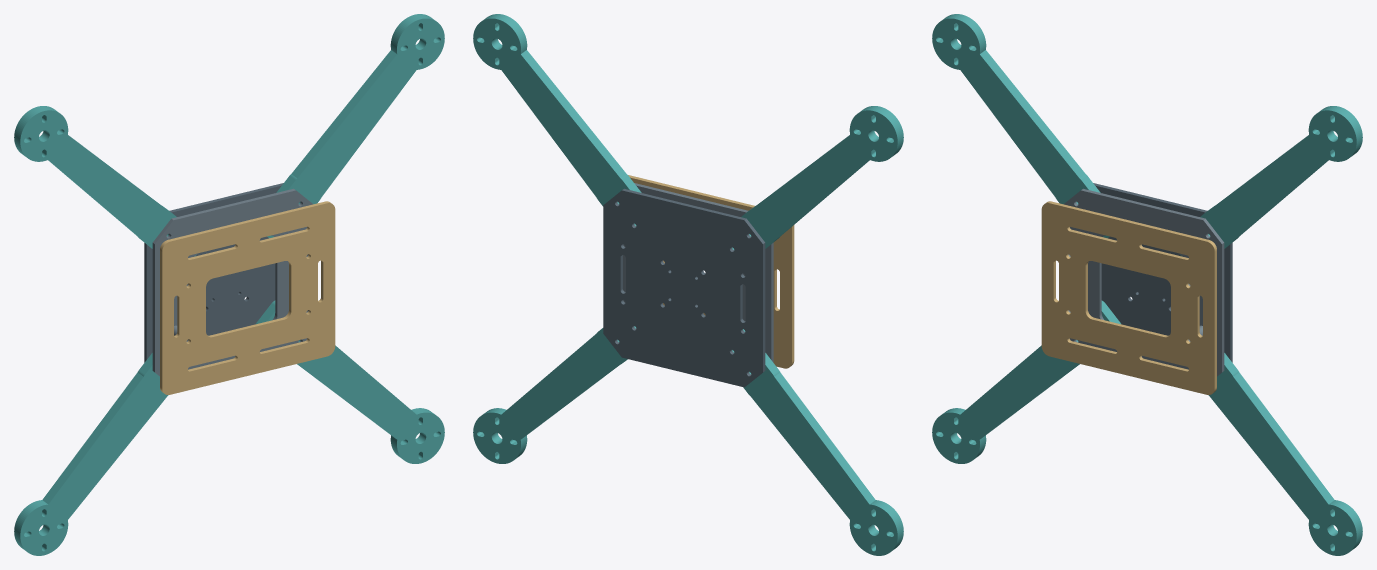
The model's file is assembly_preview.glb.
The picture shows the model from 3 angles, left to right: view 1: azimuth 30°, elevation 25°; view 2: azimuth 150°, elevation 25°; view 3: azimuth 330°, elevation 25°; orthographic projection.
Parts seen in each view (by area): view 1: 10_Electronics tray, 1_Arm 45, 3_Arm 225, 2_Arm 135, 4_Arm 315, 0_Bottom plate, 5_Top clamp; view 2: 0_Bottom plate, 3_Arm 225, 1_Arm 45, 2_Arm 135, 4_Arm 315, 10_Electronics tray, 5_Top clamp; view 3: 10_Electronics tray, 2_Arm 135, 4_Arm 315, 1_Arm 45, 3_Arm 225, 0_Bottom plate, 5_Top clamp.
Part boxes in pixels (x1,y1,x2,y2): 10_Electronics tray: (160,201,335,394); 1_Arm 45: (267,14,444,238); 3_Arm 225: (14,353,168,555); 2_Arm 135: (14,106,196,256); 4_Arm 315: (256,300,444,463); 0_Bottom plate: (144,183,283,362); 5_Top clamp: (152,188,312,376); 0_Bottom plate: (603,188,765,387); 3_Arm 225: (732,329,903,555); 1_Arm 45: (473,14,641,225); 2_Arm 135: (732,106,903,249); 4_Arm 315: (473,326,636,463); 10_Electronics tray: (628,175,794,368); 5_Top clamp: (623,183,773,362); 10_Electronics tray: (1041,201,1216,394); 2_Arm 135: (932,14,1109,238); 4_Arm 315: (1208,353,1362,555); 1_Arm 45: (1180,106,1362,256); 3_Arm 225: (932,300,1120,463); 0_Bottom plate: (1093,183,1232,362); 5_Top clamp: (1064,188,1224,376).
Bounding box in the file's own units: 319 × 319 × 32.
